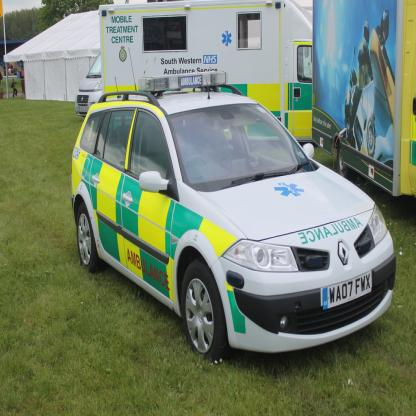Car: (72, 79, 406, 366), (74, 49, 105, 122)
